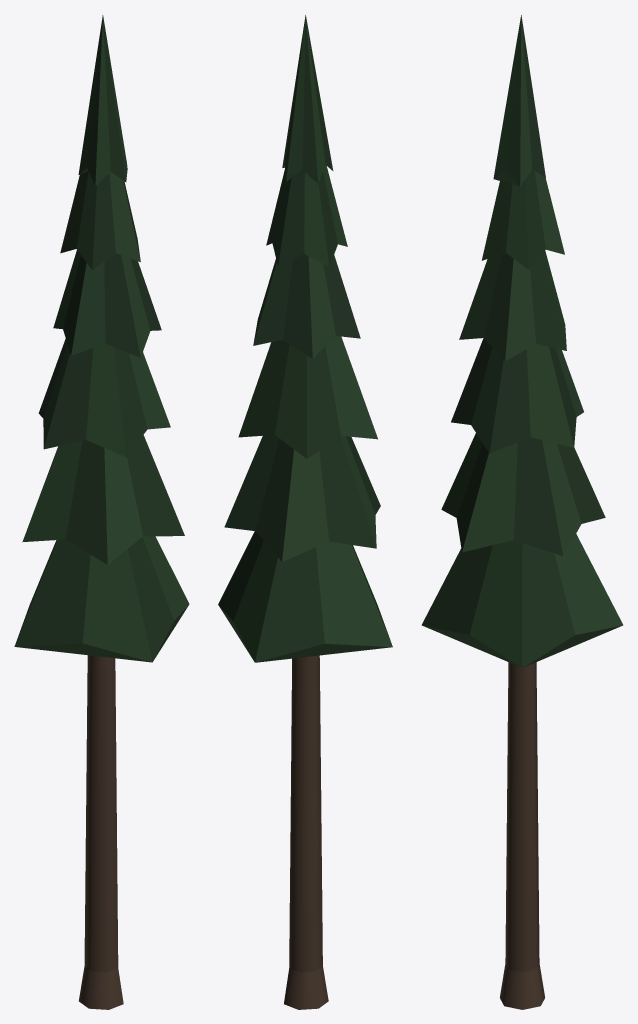
File: cedar_tree.glb
The picture shows the model from 3 angles, left to right: view 1: azimuth 30°, elevation 25°; view 2: azimuth 150°, elevation 25°; view 3: azimuth 270°, elevation 25°; orthographic projection.
Visible parts, largest first — view 1: leaves, trunk; view 2: leaves, trunk; view 3: leaves, trunk.
Boxes of the visible parts, box(x1,y1,x2,y2) form: leaves: box(14, 15, 189, 662); trunk: box(79, 655, 123, 1009); leaves: box(218, 15, 392, 662); trunk: box(284, 655, 328, 1009); leaves: box(421, 15, 623, 667); trunk: box(500, 662, 544, 1009).
Bounding box in the file's own units: 2.6 × 14 × 2.6.
